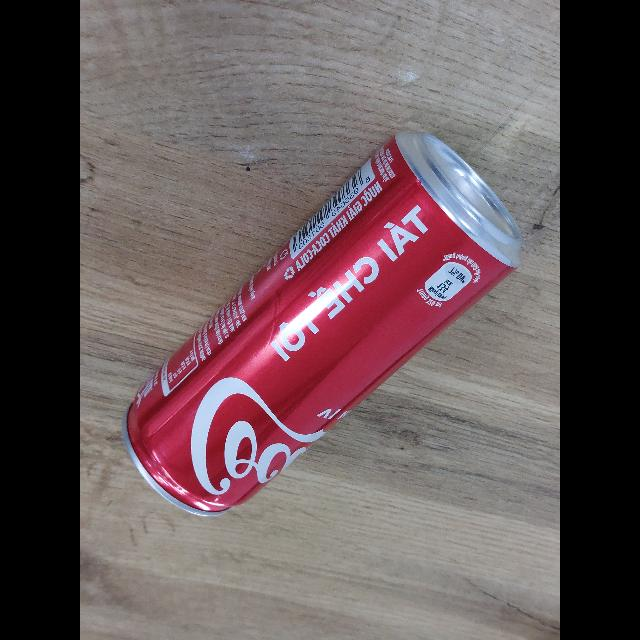coca_cola: (122, 128, 523, 516)
